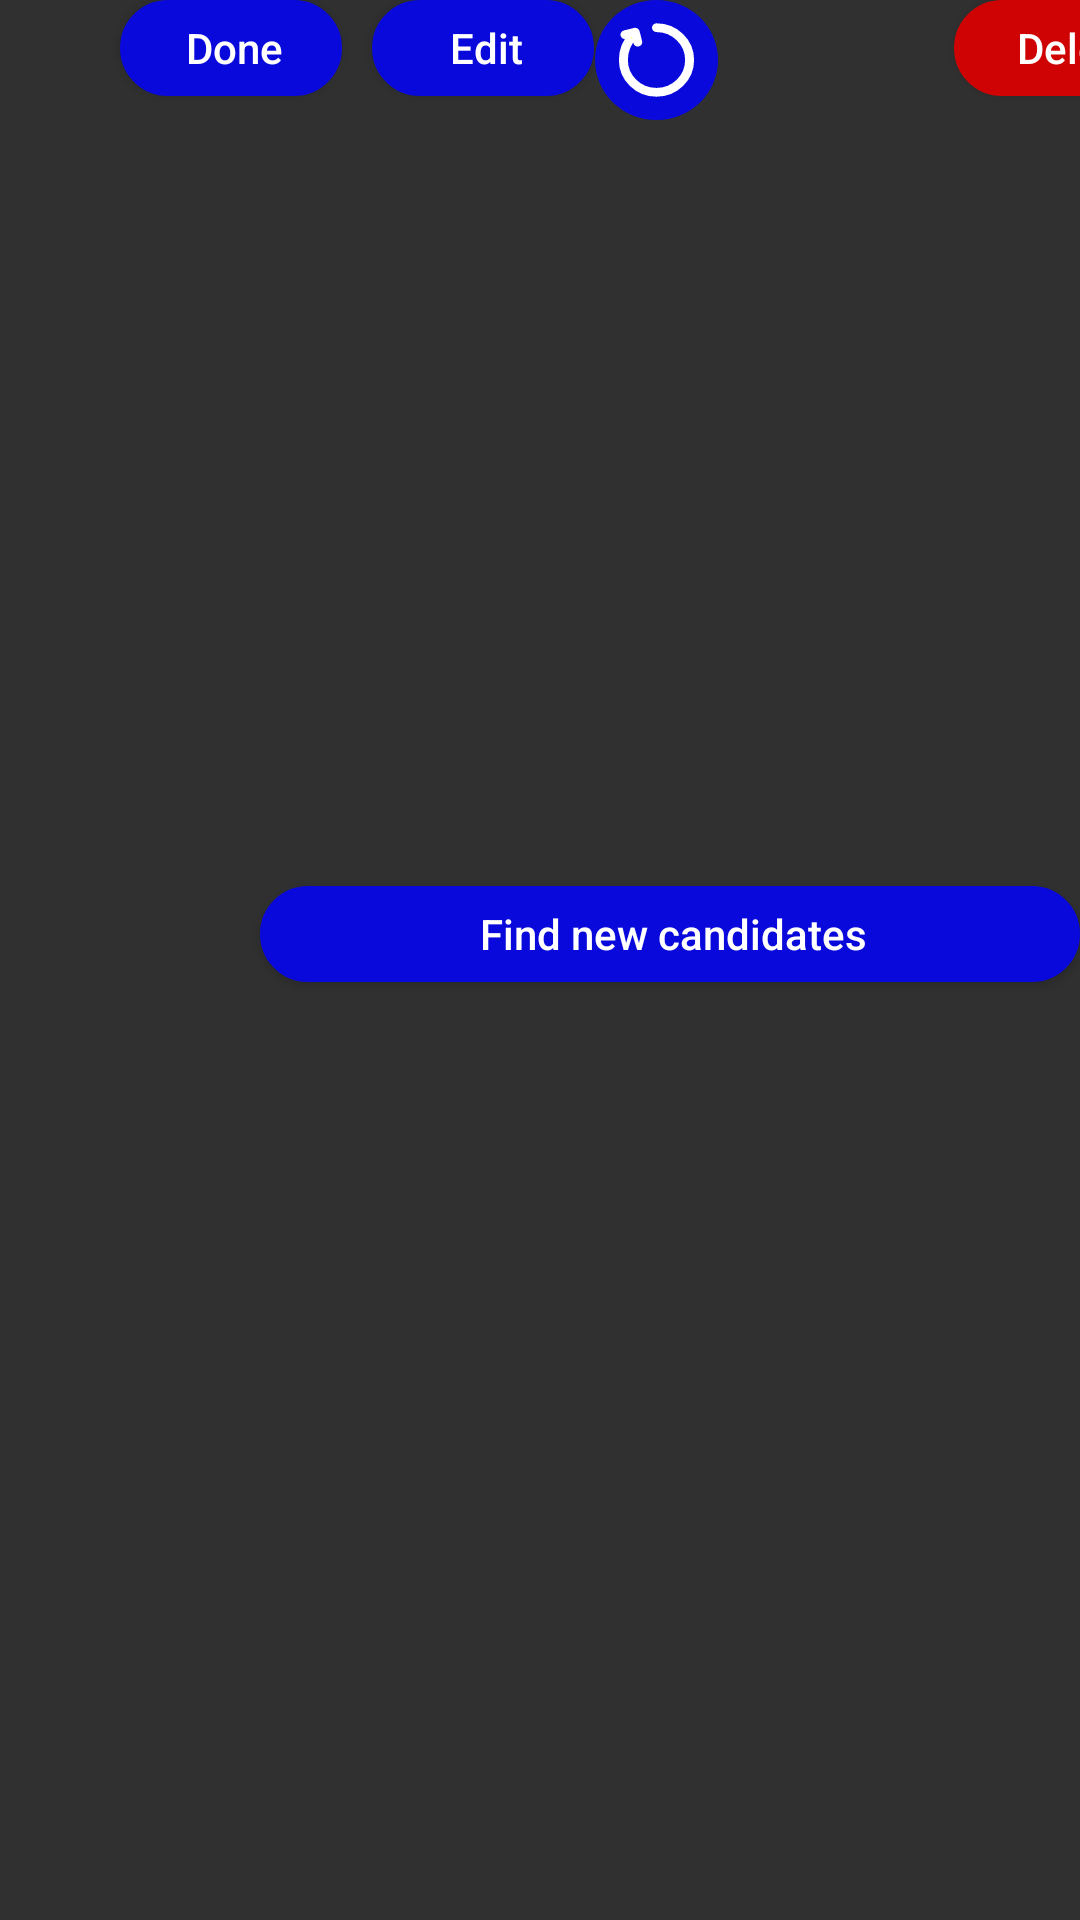

Named icons in this screenshot (1080×1920) and their centers, (x,y):
repeat: (656,60)
